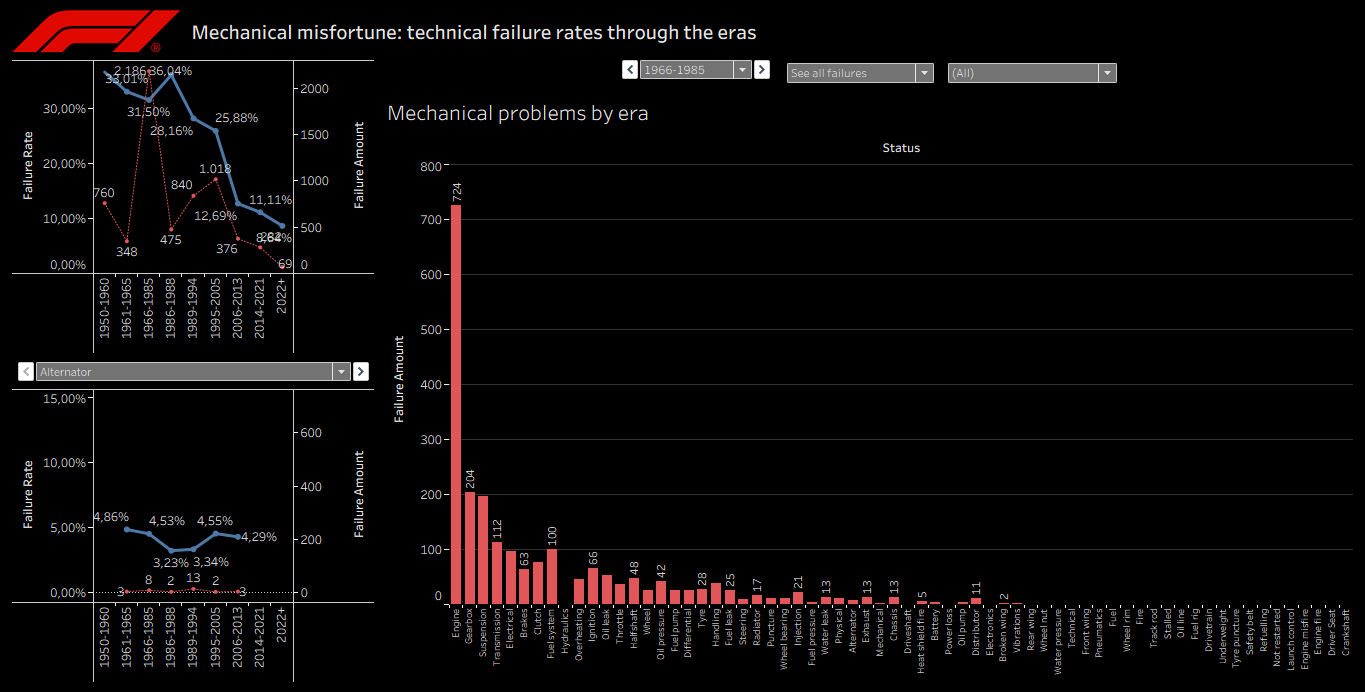

The page's visual inventory and layout, read from the dashboard file:
{"tool":"tableau","page":{"name":"Mechanical failures (Rates)","canvas":[1000,1000],"units":"permille","ordinal":3},"visuals":[{"type":"image","param":"D:/Repos/F1_Stats_Tableau/img/F1_Logo.png","box":[7,14.3,155.4,89.3]},{"type":"text","box":[162.4,14.3,830.6,89.3]},{"type":"worksheet","title":"All Failures (Rate)","mark":"Line","rows":["Calculation_1014998815272411139"],"cols":["Calculation_569142452756807681"],"box":[7,103.6,325.7,455.4]},{"type":"filter","title":"Mechanical problems by year (Rate)","param":"[federated.1gciksz1by2j2j1de8jam11lnjzv].[none:Calculation_569142452756807681:qk","box":[332.7,103.6,357.8,60.7]},{"type":"parameter","param":"[Parameters].[statusId (status.csv) Parameter]","box":[690.6,103.6,141.3,60.7]},{"type":"filter","title":"All Failures (Rate)","param":"[federated.1gciksz1by2j2j1de8jam11lnjzv].[none:name (constructors.csv):nk]","box":[831.9,103.6,160.7,60.7]},{"type":"worksheet","title":"Mechanical problems by year (Rate)","mark":"Bar","rows":["Calculation_1014998815272411139"],"cols":["status"],"box":[332.7,164.3,659.8,821.4]},{"type":"currpage","title":"Selected Failure (Rate)","box":[7,558.9,325.7,48.2]},{"type":"worksheet","title":"Selected Failure (Rate)","mark":"Line","rows":["Calculation_1014998815272411139"],"cols":["Calculation_569142452756807681"],"box":[7,607.1,325.7,378.6]}]}

Visuals, with their boxes on the dashboard's canvas, which has no fixed pixel size, in thousandths of its width and height (x1, y1, x2, y2). These are canvas units, not pixel positions in the 1365x692 screenshot, which may show the page scaled, cropped or inside an application window:
image: [left=7, top=14, right=162, bottom=104]
text: [left=162, top=14, right=993, bottom=104]
"All Failures (Rate)" worksheet (Line marks): [left=7, top=104, right=333, bottom=559]
"Mechanical problems by year (Rate)" filter: [left=333, top=104, right=690, bottom=164]
parameter: [left=691, top=104, right=832, bottom=164]
"All Failures (Rate)" filter: [left=832, top=104, right=993, bottom=164]
"Mechanical problems by year (Rate)" worksheet (Bar marks): [left=333, top=164, right=992, bottom=986]
"Selected Failure (Rate)" currpage: [left=7, top=559, right=333, bottom=607]
"Selected Failure (Rate)" worksheet (Line marks): [left=7, top=607, right=333, bottom=986]
